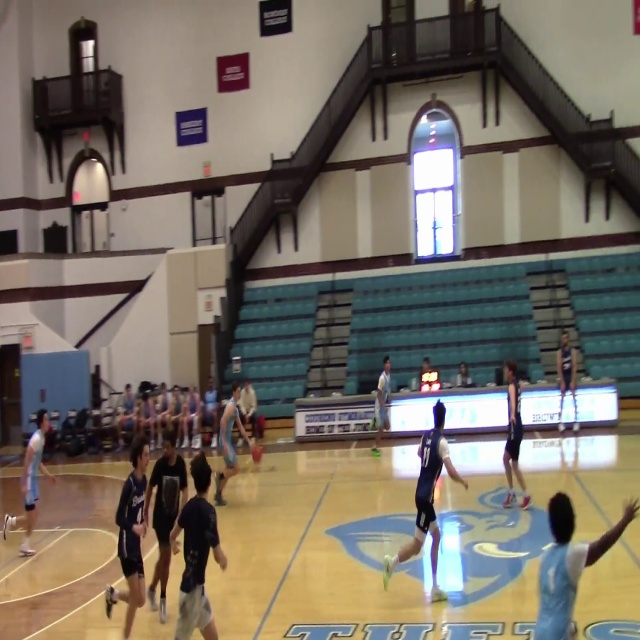Basketball: (251, 446, 262, 462), (371, 448, 381, 457)
